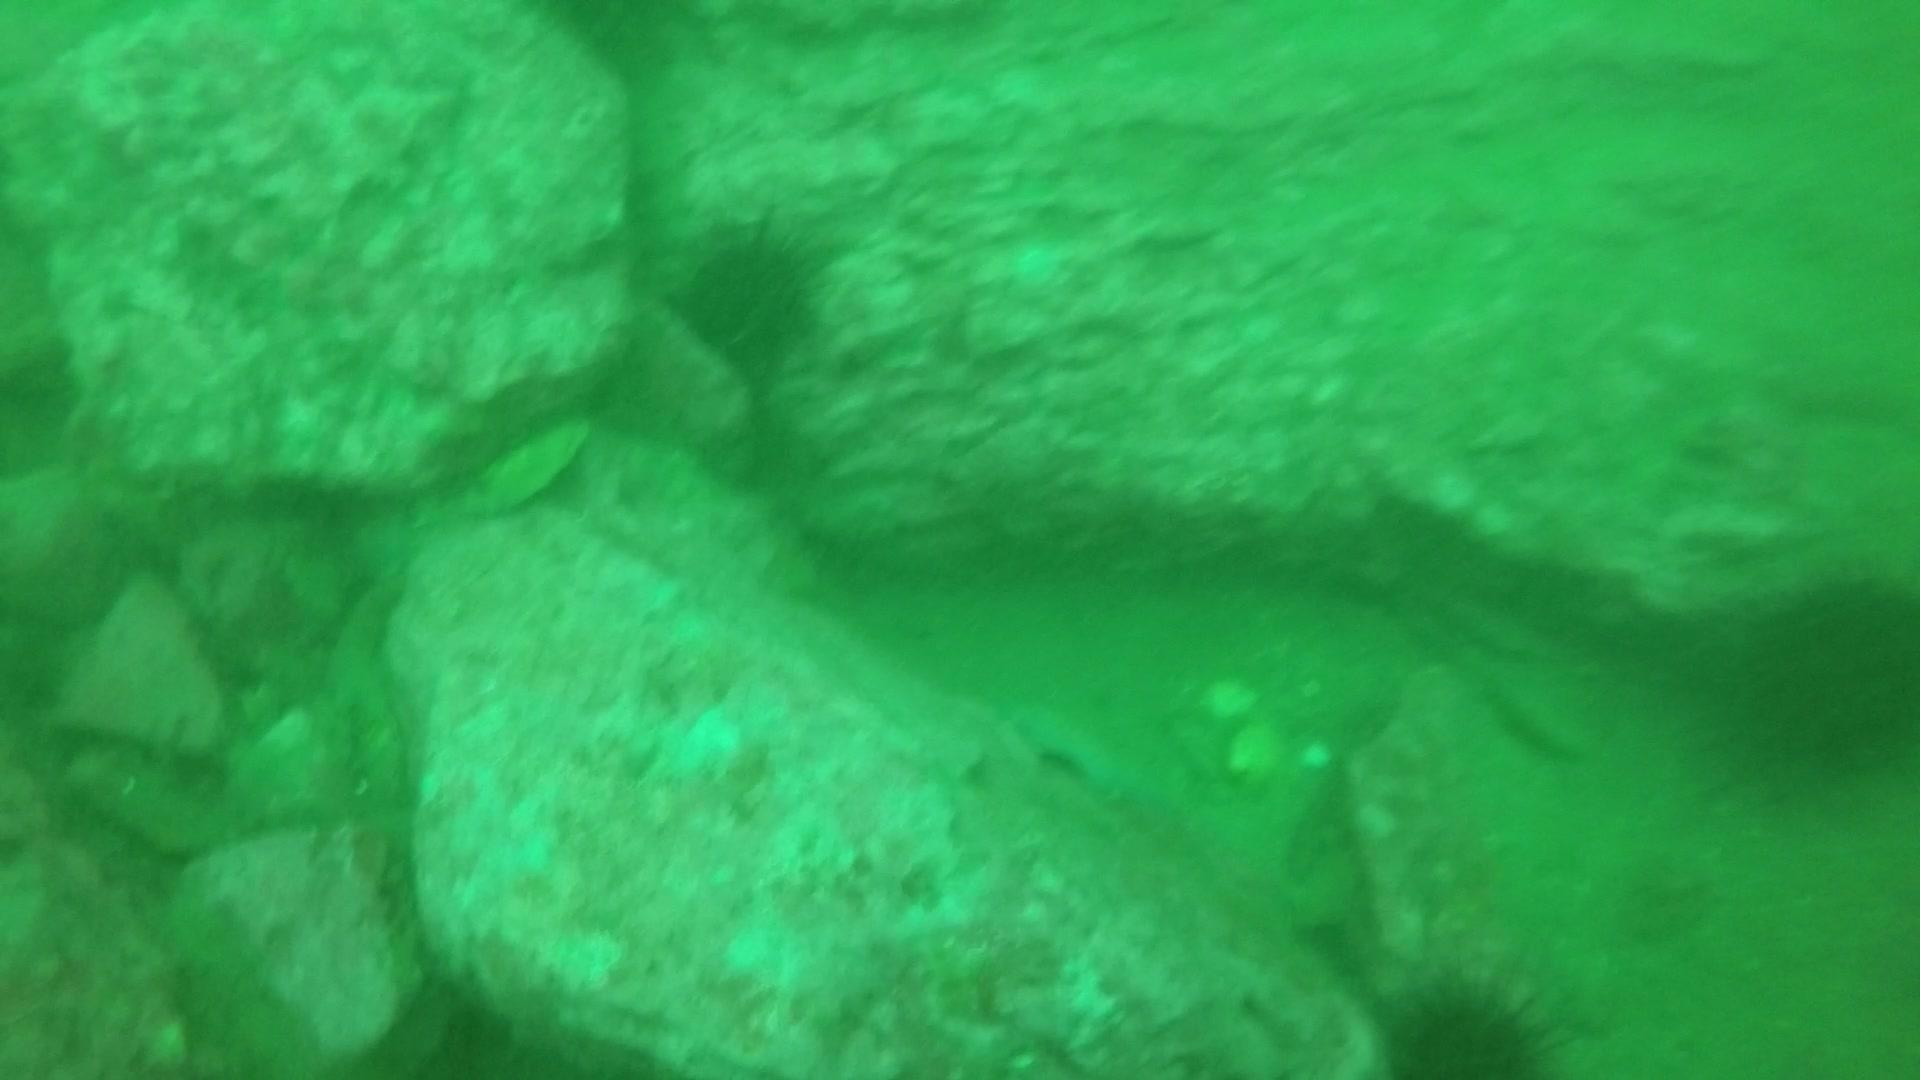echinus: (669, 214, 829, 375), (1371, 967, 1567, 1077)
starfish: (1002, 694, 1175, 812)
